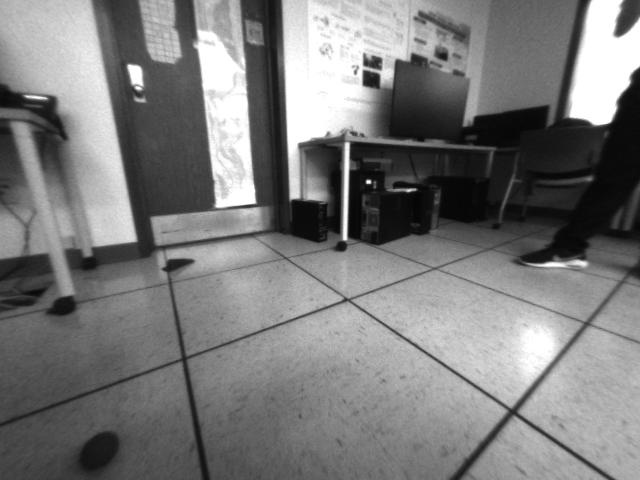dogtoy: (66, 417, 131, 477)
